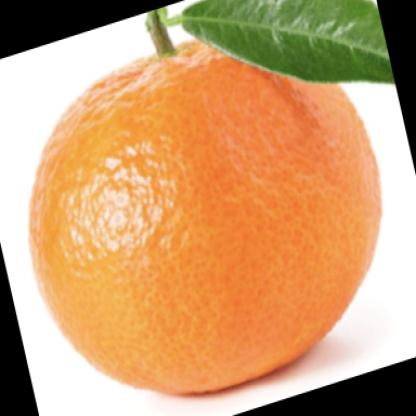fresh: (33, 39, 385, 392)
